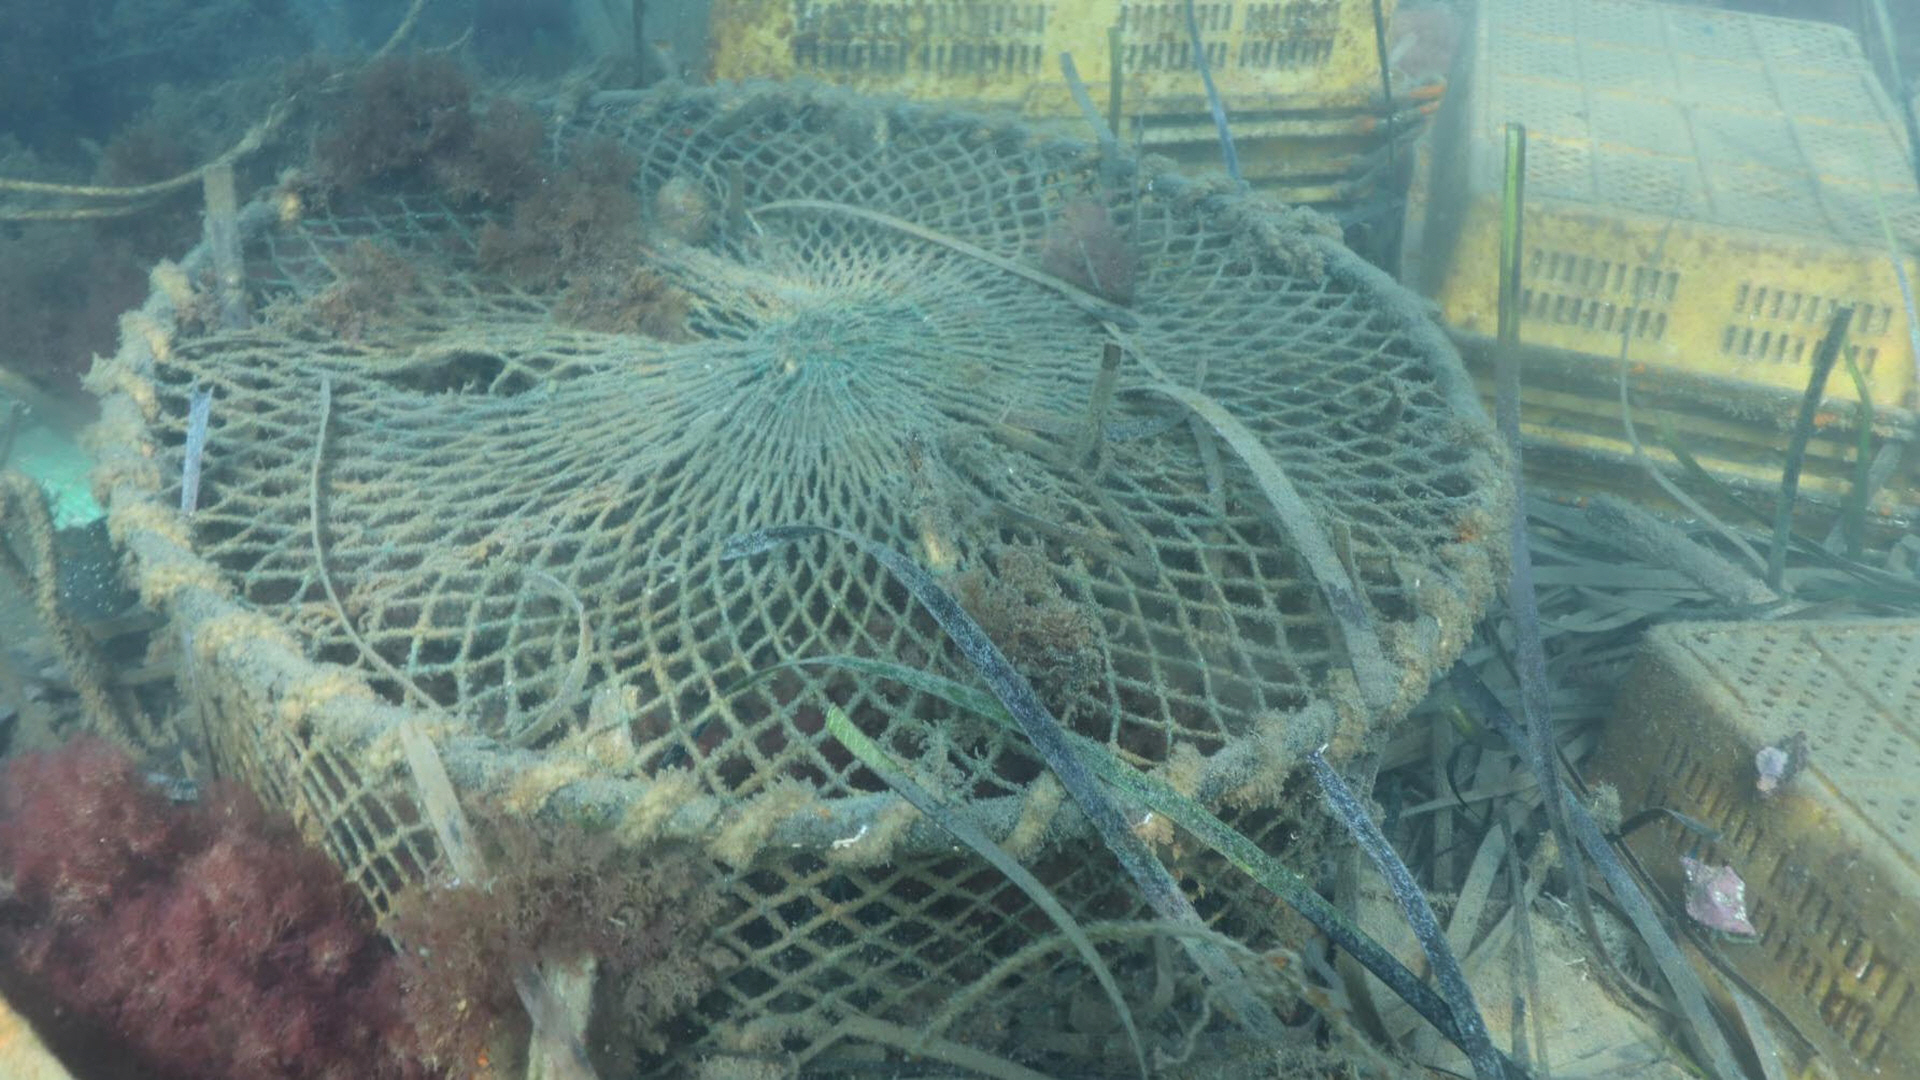bundle of ropes: (0, 0, 433, 218)
circular fish trap: (86, 74, 1513, 1080)
rope: (0, 469, 161, 769)
